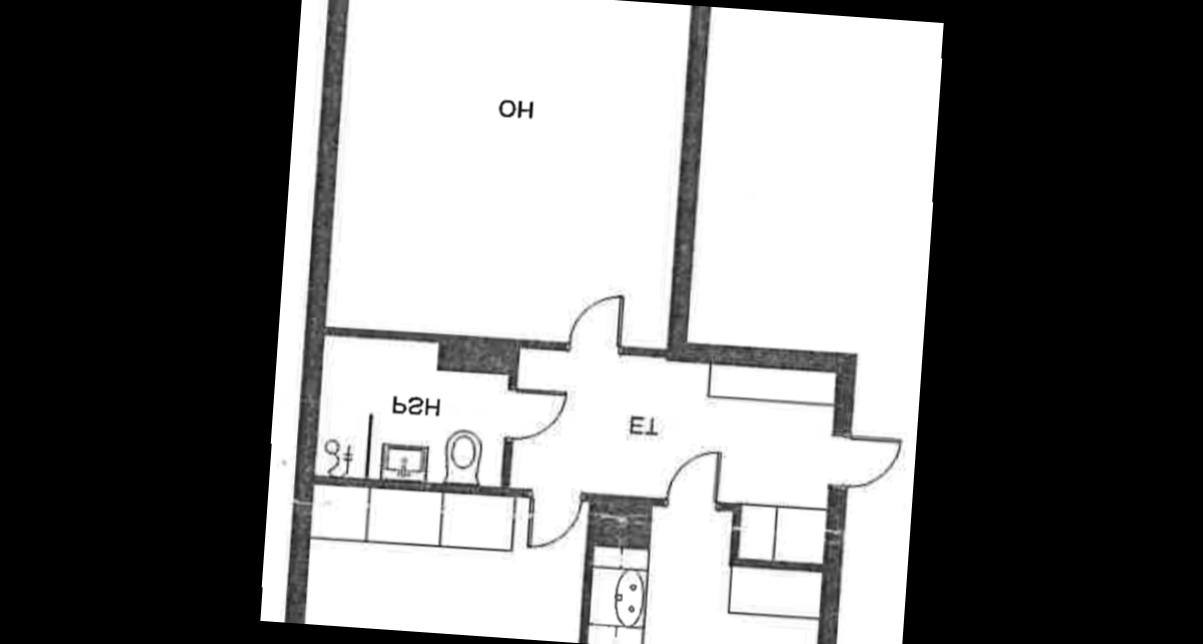door: (829, 430, 906, 498), (661, 442, 726, 514), (562, 286, 630, 354), (522, 485, 586, 552), (502, 384, 569, 446)
